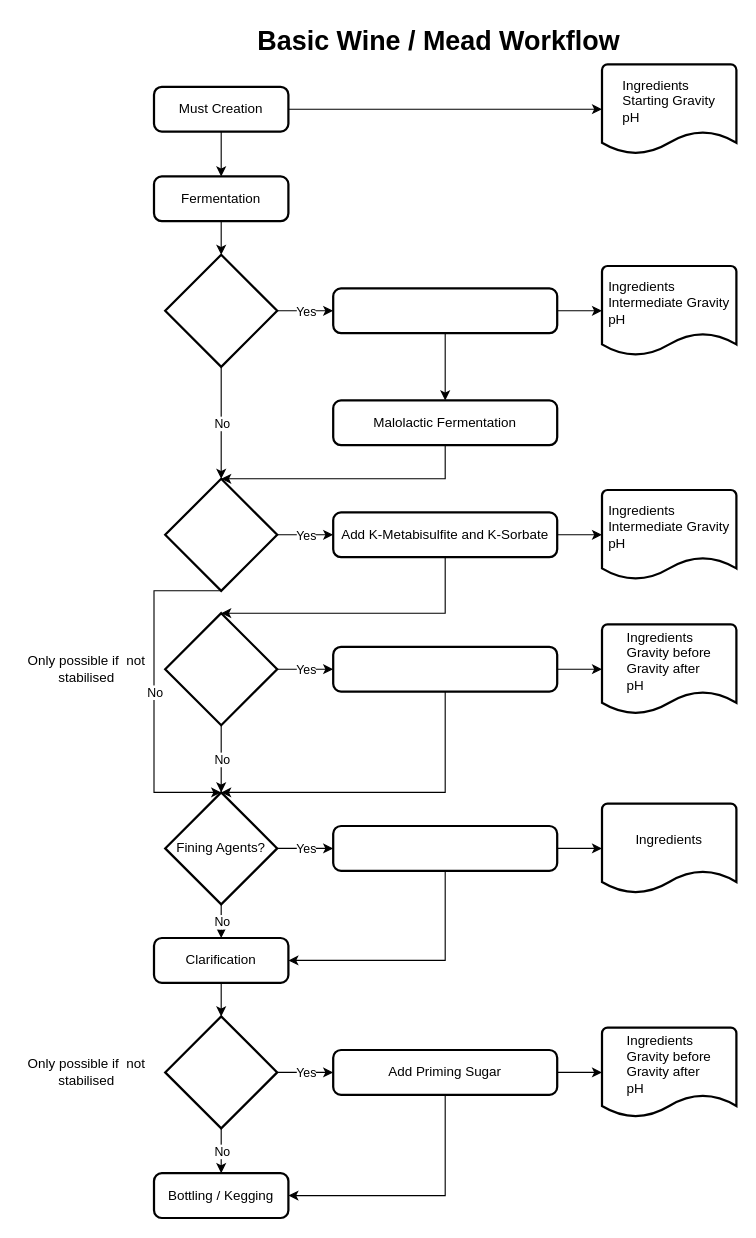
Image size: 756x1238. Some labels were removed from this diagram. Each missing label, with the centre of its shape:
Add Fining Agents: the point at 445,847
Add Lactic Acid Bacteria: the point at 445,310
Add Sweetening Agent: the point at 445,668
Back Sweeten?: the point at 221,669
Bottle Carbonate?: the point at 221,1072
Malolactic Fermentation?: the point at 221,310
Stabilise?: the point at 221,534
